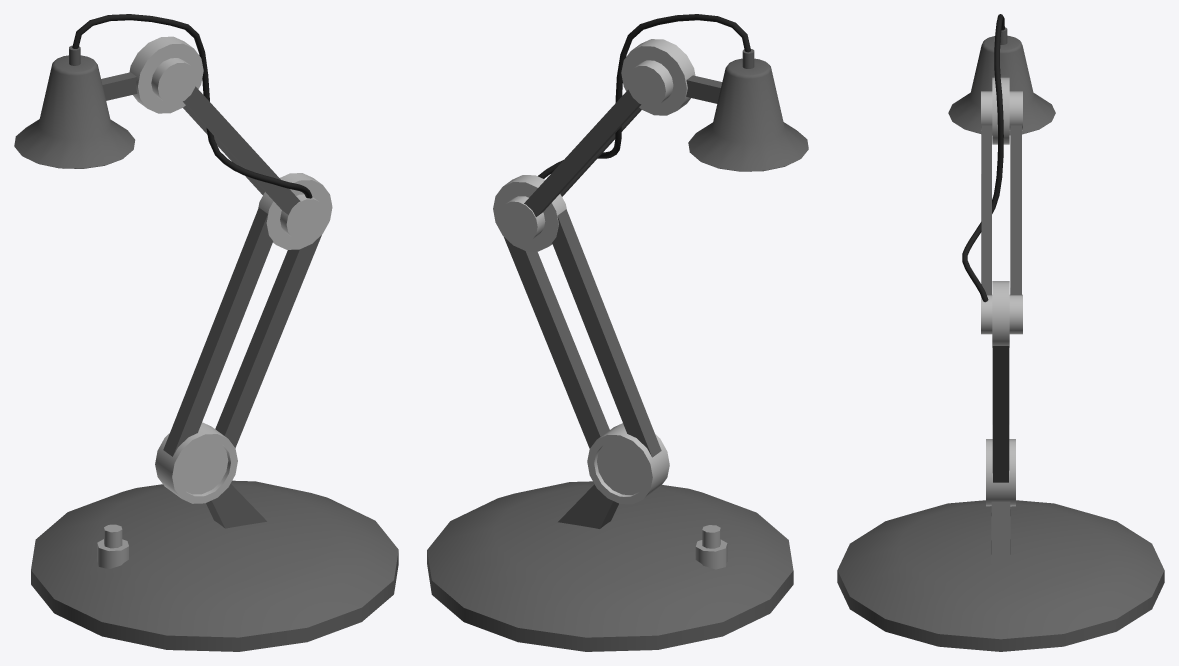
Rendered from Office Lamp01.fbx.
The picture shows the model from 3 angles, left to right: view 1: azimuth 30°, elevation 25°; view 2: azimuth 150°, elevation 25°; view 3: azimuth 270°, elevation 25°; orthographic projection. The views are drawn at different scales.
Parts seen in each view (by area): view 1: Office Lamp01; view 2: Office Lamp01; view 3: Office Lamp01.
Boxes of the visible parts, box(x1,y1,x2,y2) form: Office Lamp01: box(14, 14, 398, 651); Office Lamp01: box(427, 14, 808, 651); Office Lamp01: box(837, 14, 1164, 651).
Size of the model in its own units: 0.2267 by 0.2063 by 0.3595.
